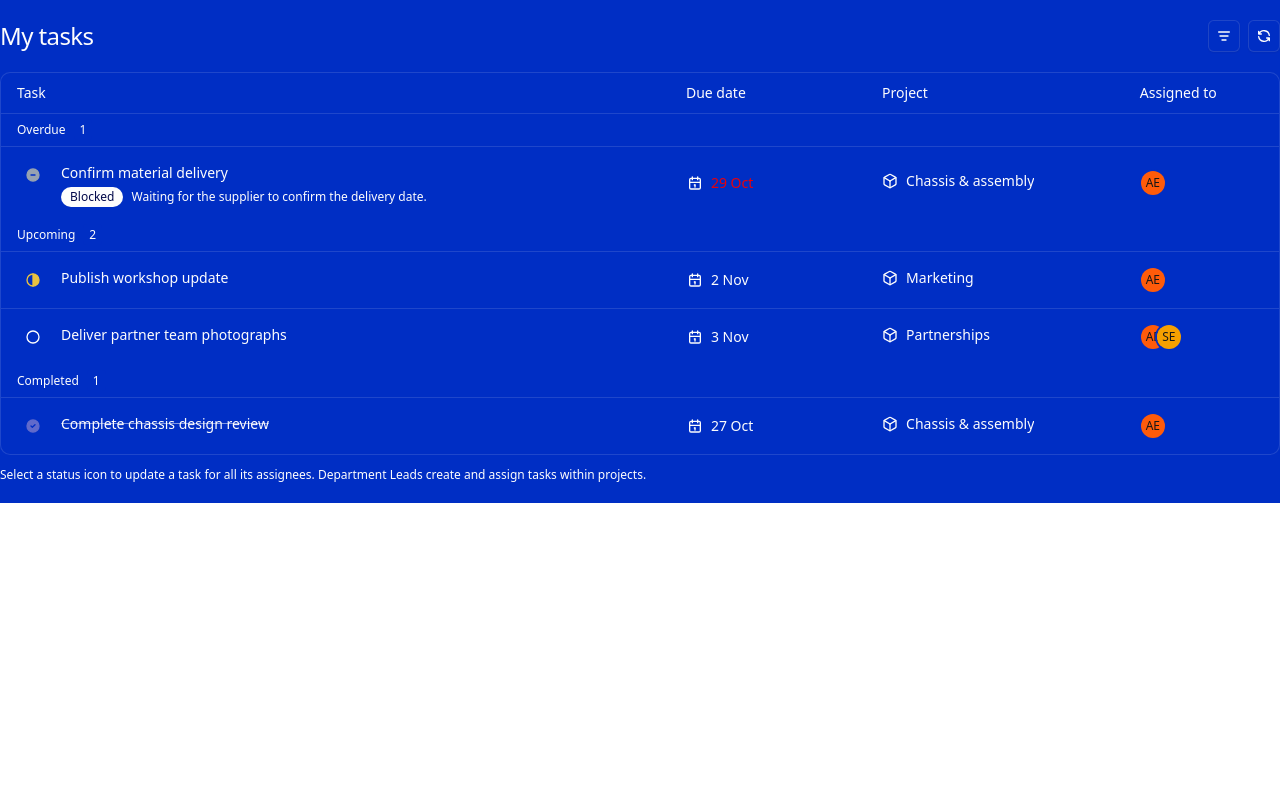
project management interface › completes a personal task through status-only mutation and moves it to Completed
This screenshot has width=1280, height=800.
Click the button named "Change status for Confirm material delivery" at (33, 174), box [17, 158, 49, 190]
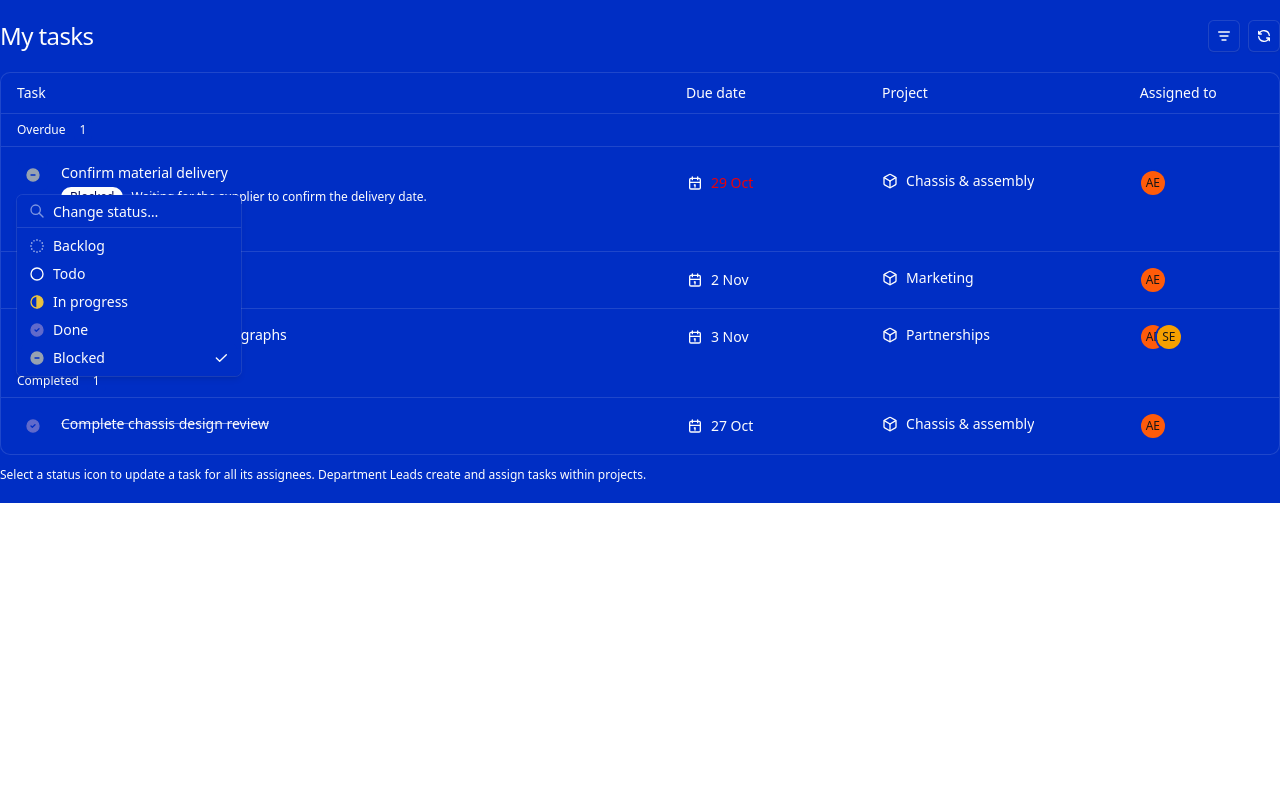
Click the option "Done" at (59, 330), box [29, 320, 88, 339]
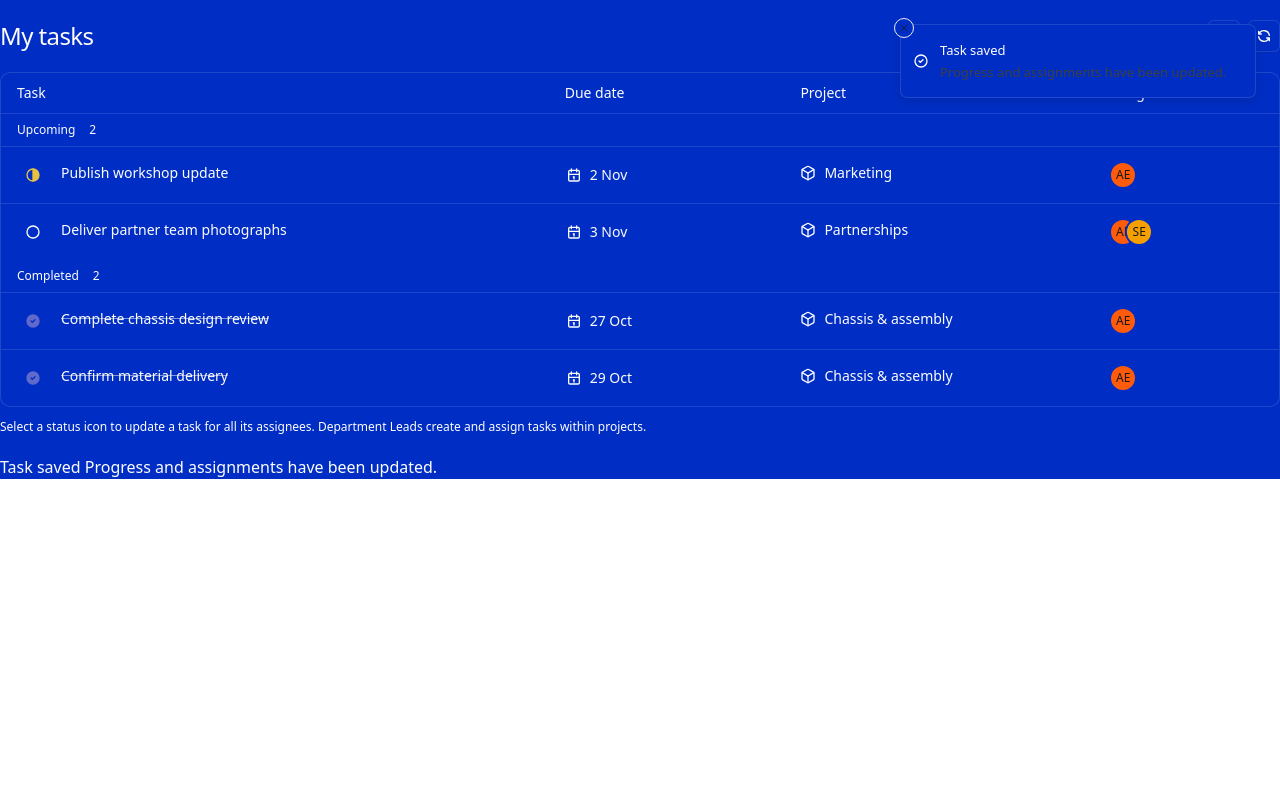
Expected: the table named "Completed" shows "Confirm material delivery", [61, 366, 228, 386]
Expected: the table named "Overdue" is gone
